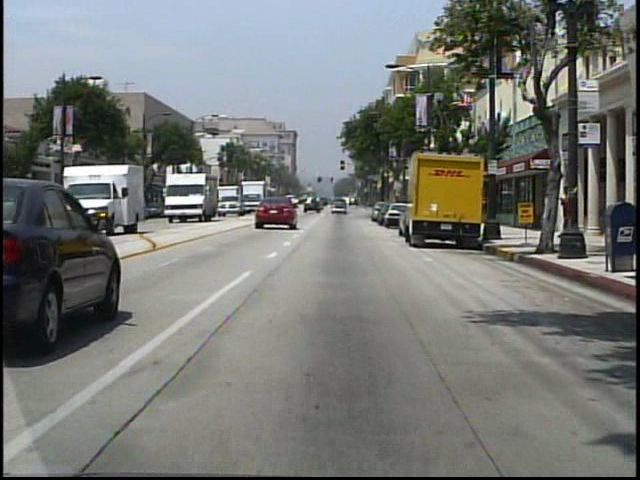person: (560, 183, 579, 238)
